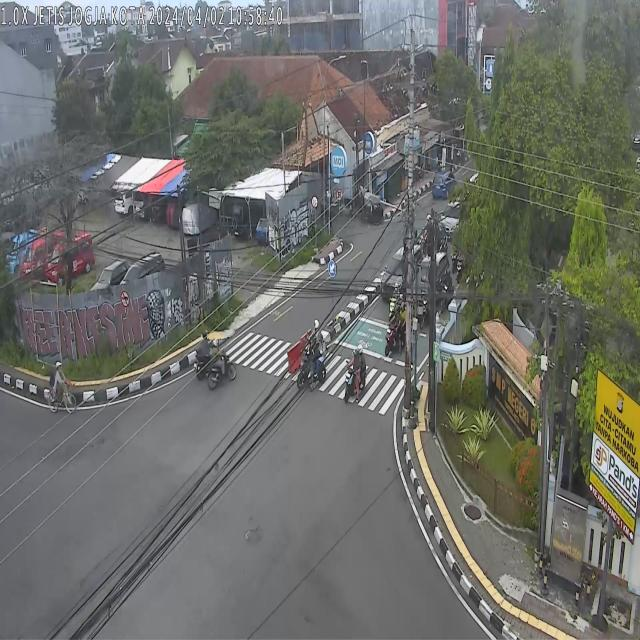car: (381, 244, 422, 302), (421, 252, 449, 301), (440, 200, 460, 240), (432, 170, 458, 200)
motorcycle: (297, 335, 327, 394), (206, 337, 238, 391), (344, 344, 367, 405), (193, 328, 215, 379), (384, 302, 406, 353), (302, 316, 326, 354), (440, 268, 454, 314), (388, 283, 402, 321)
